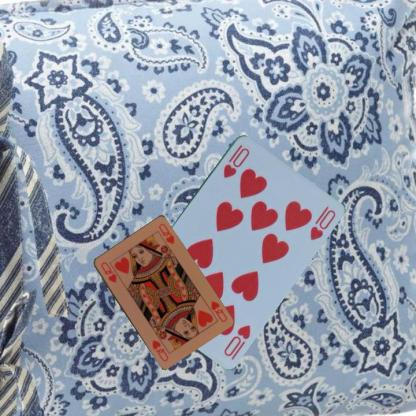10h: (220, 142, 251, 179), (221, 321, 252, 357)
Qh: (208, 298, 228, 324), (98, 260, 118, 284)
